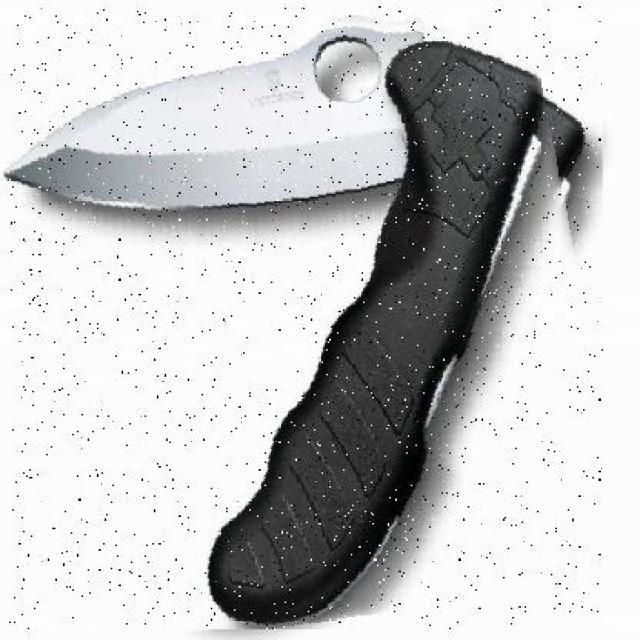knife: (9, 6, 603, 629)
